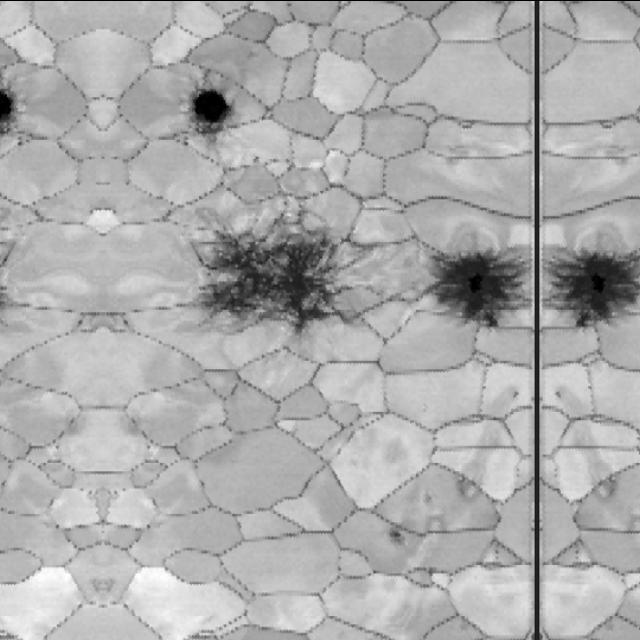good_void: (176, 199, 366, 329), (430, 243, 533, 322), (543, 243, 640, 322), (181, 71, 240, 133), (452, 461, 490, 502), (586, 461, 624, 502), (0, 87, 26, 128), (386, 517, 409, 546), (418, 483, 438, 505), (511, 387, 520, 397), (556, 387, 565, 397)
